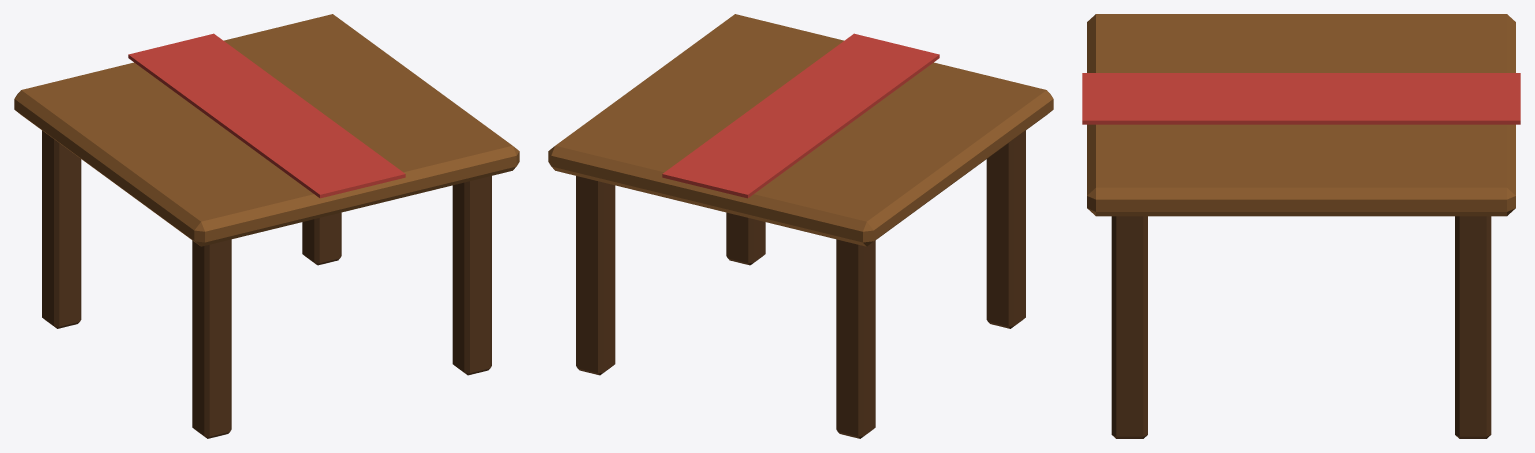
The model's file is PR_Furniture_MasaKare.fbx.
3 renders of one model, left to right at view 1: azimuth 30°, elevation 25°; view 2: azimuth 150°, elevation 25°; view 3: azimuth 270°, elevation 25°, orthographic. The views are drawn at different scales.
Visible parts, largest first — view 1: PR_Furniture_MasaKare; view 2: PR_Furniture_MasaKare; view 3: PR_Furniture_MasaKare.
Part boxes in pixels (x1,y1,x2,y2): PR_Furniture_MasaKare: (14, 14, 519, 438); PR_Furniture_MasaKare: (548, 14, 1053, 438); PR_Furniture_MasaKare: (1082, 14, 1520, 438).
Size of the model in its own units: 0.95 by 0.645 by 0.97.
Materials: 1 (1 with a texture image).
